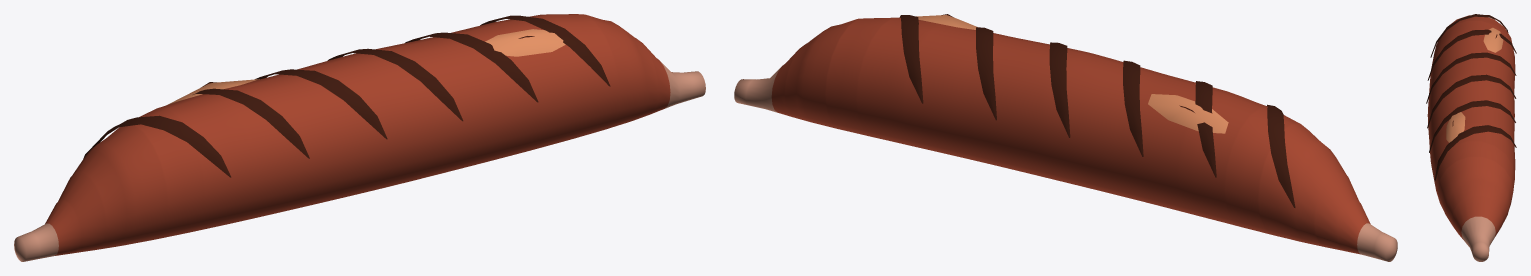
File: sausage_cooked.glb
3 views of the same model, side by side, from view 1: azimuth 30°, elevation 25°; view 2: azimuth 150°, elevation 25°; view 3: azimuth 270°, elevation 25° (orthographic). The views are drawn at different scales.
Visible parts, largest first — view 1: SausageCooked; view 2: SausageCooked; view 3: SausageCooked.
Boxes of the visible parts, x1,y1,x2,y2 form: SausageCooked: (14, 14, 705, 261); SausageCooked: (734, 14, 1397, 261); SausageCooked: (1426, 14, 1516, 261).
Size of the model in its own units: 4.5 by 0.8 by 0.8.
